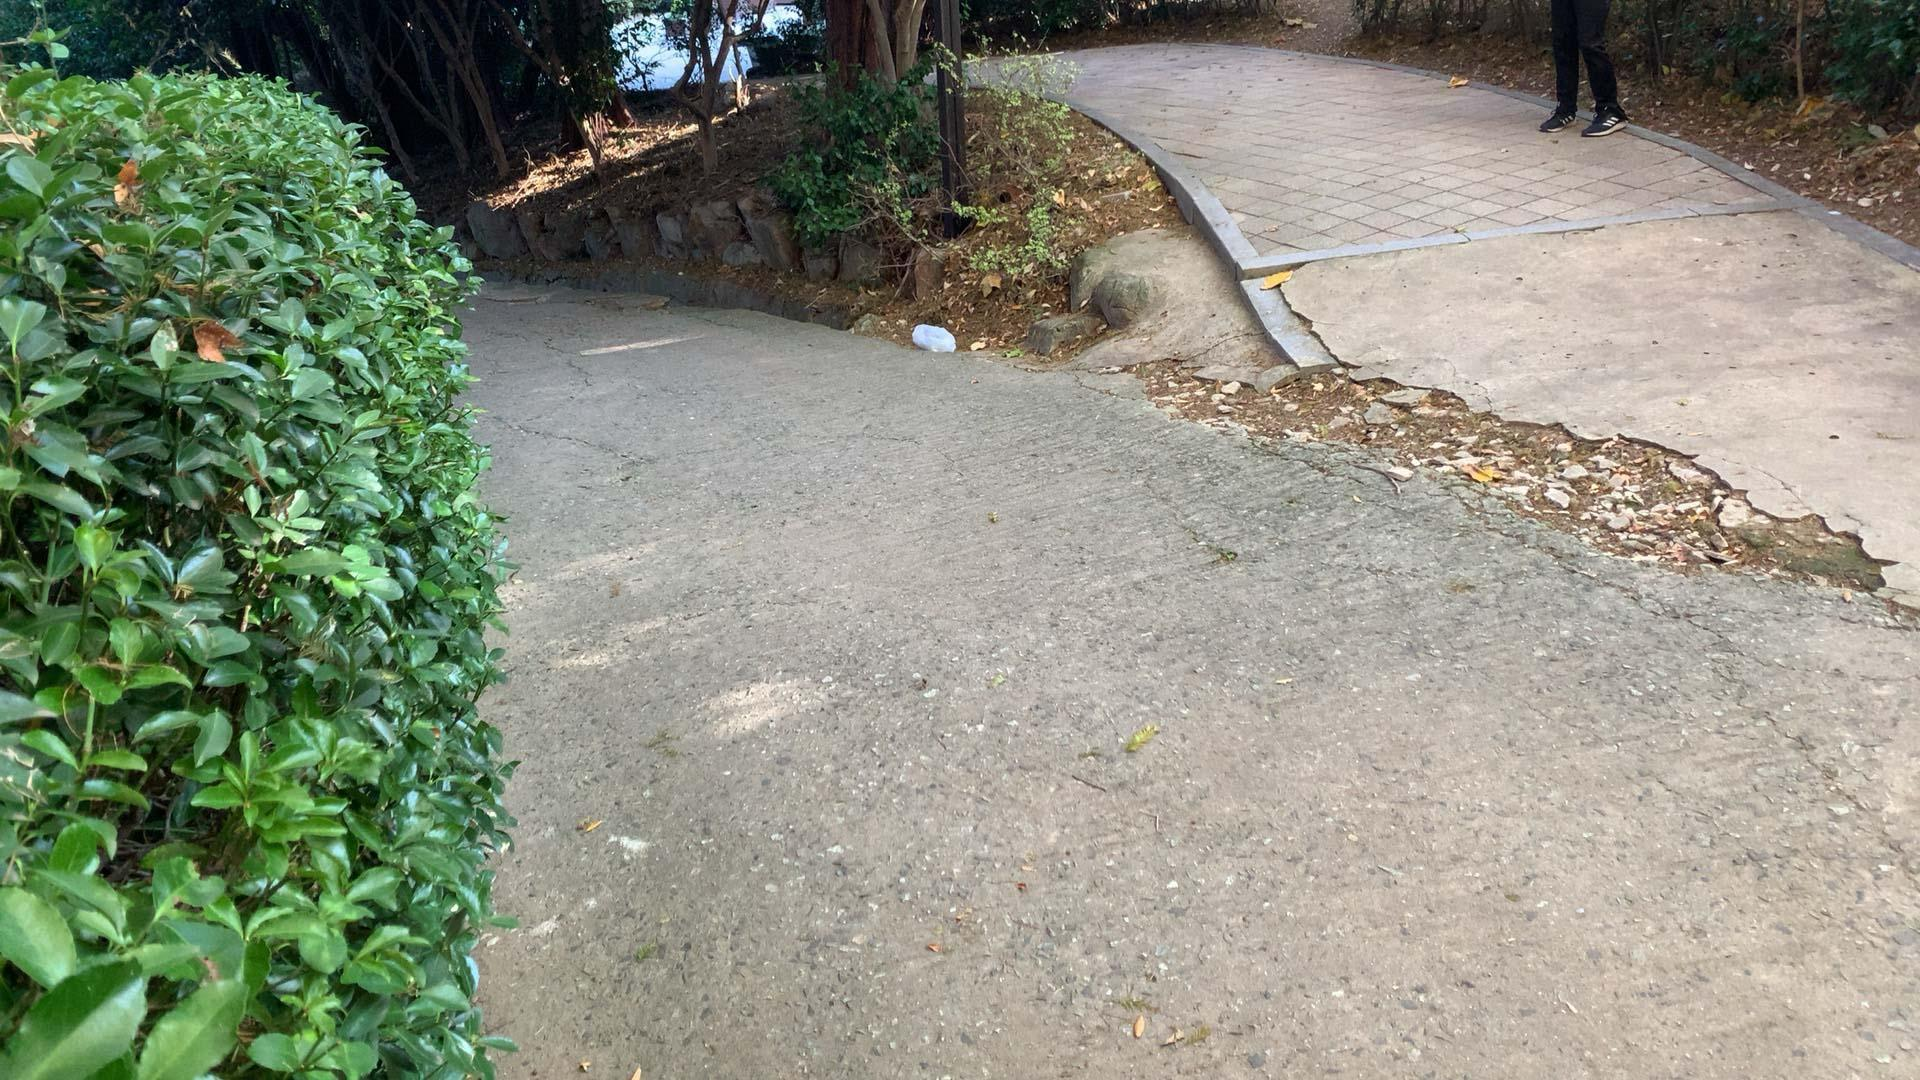white_bag: (906, 318, 961, 357)
